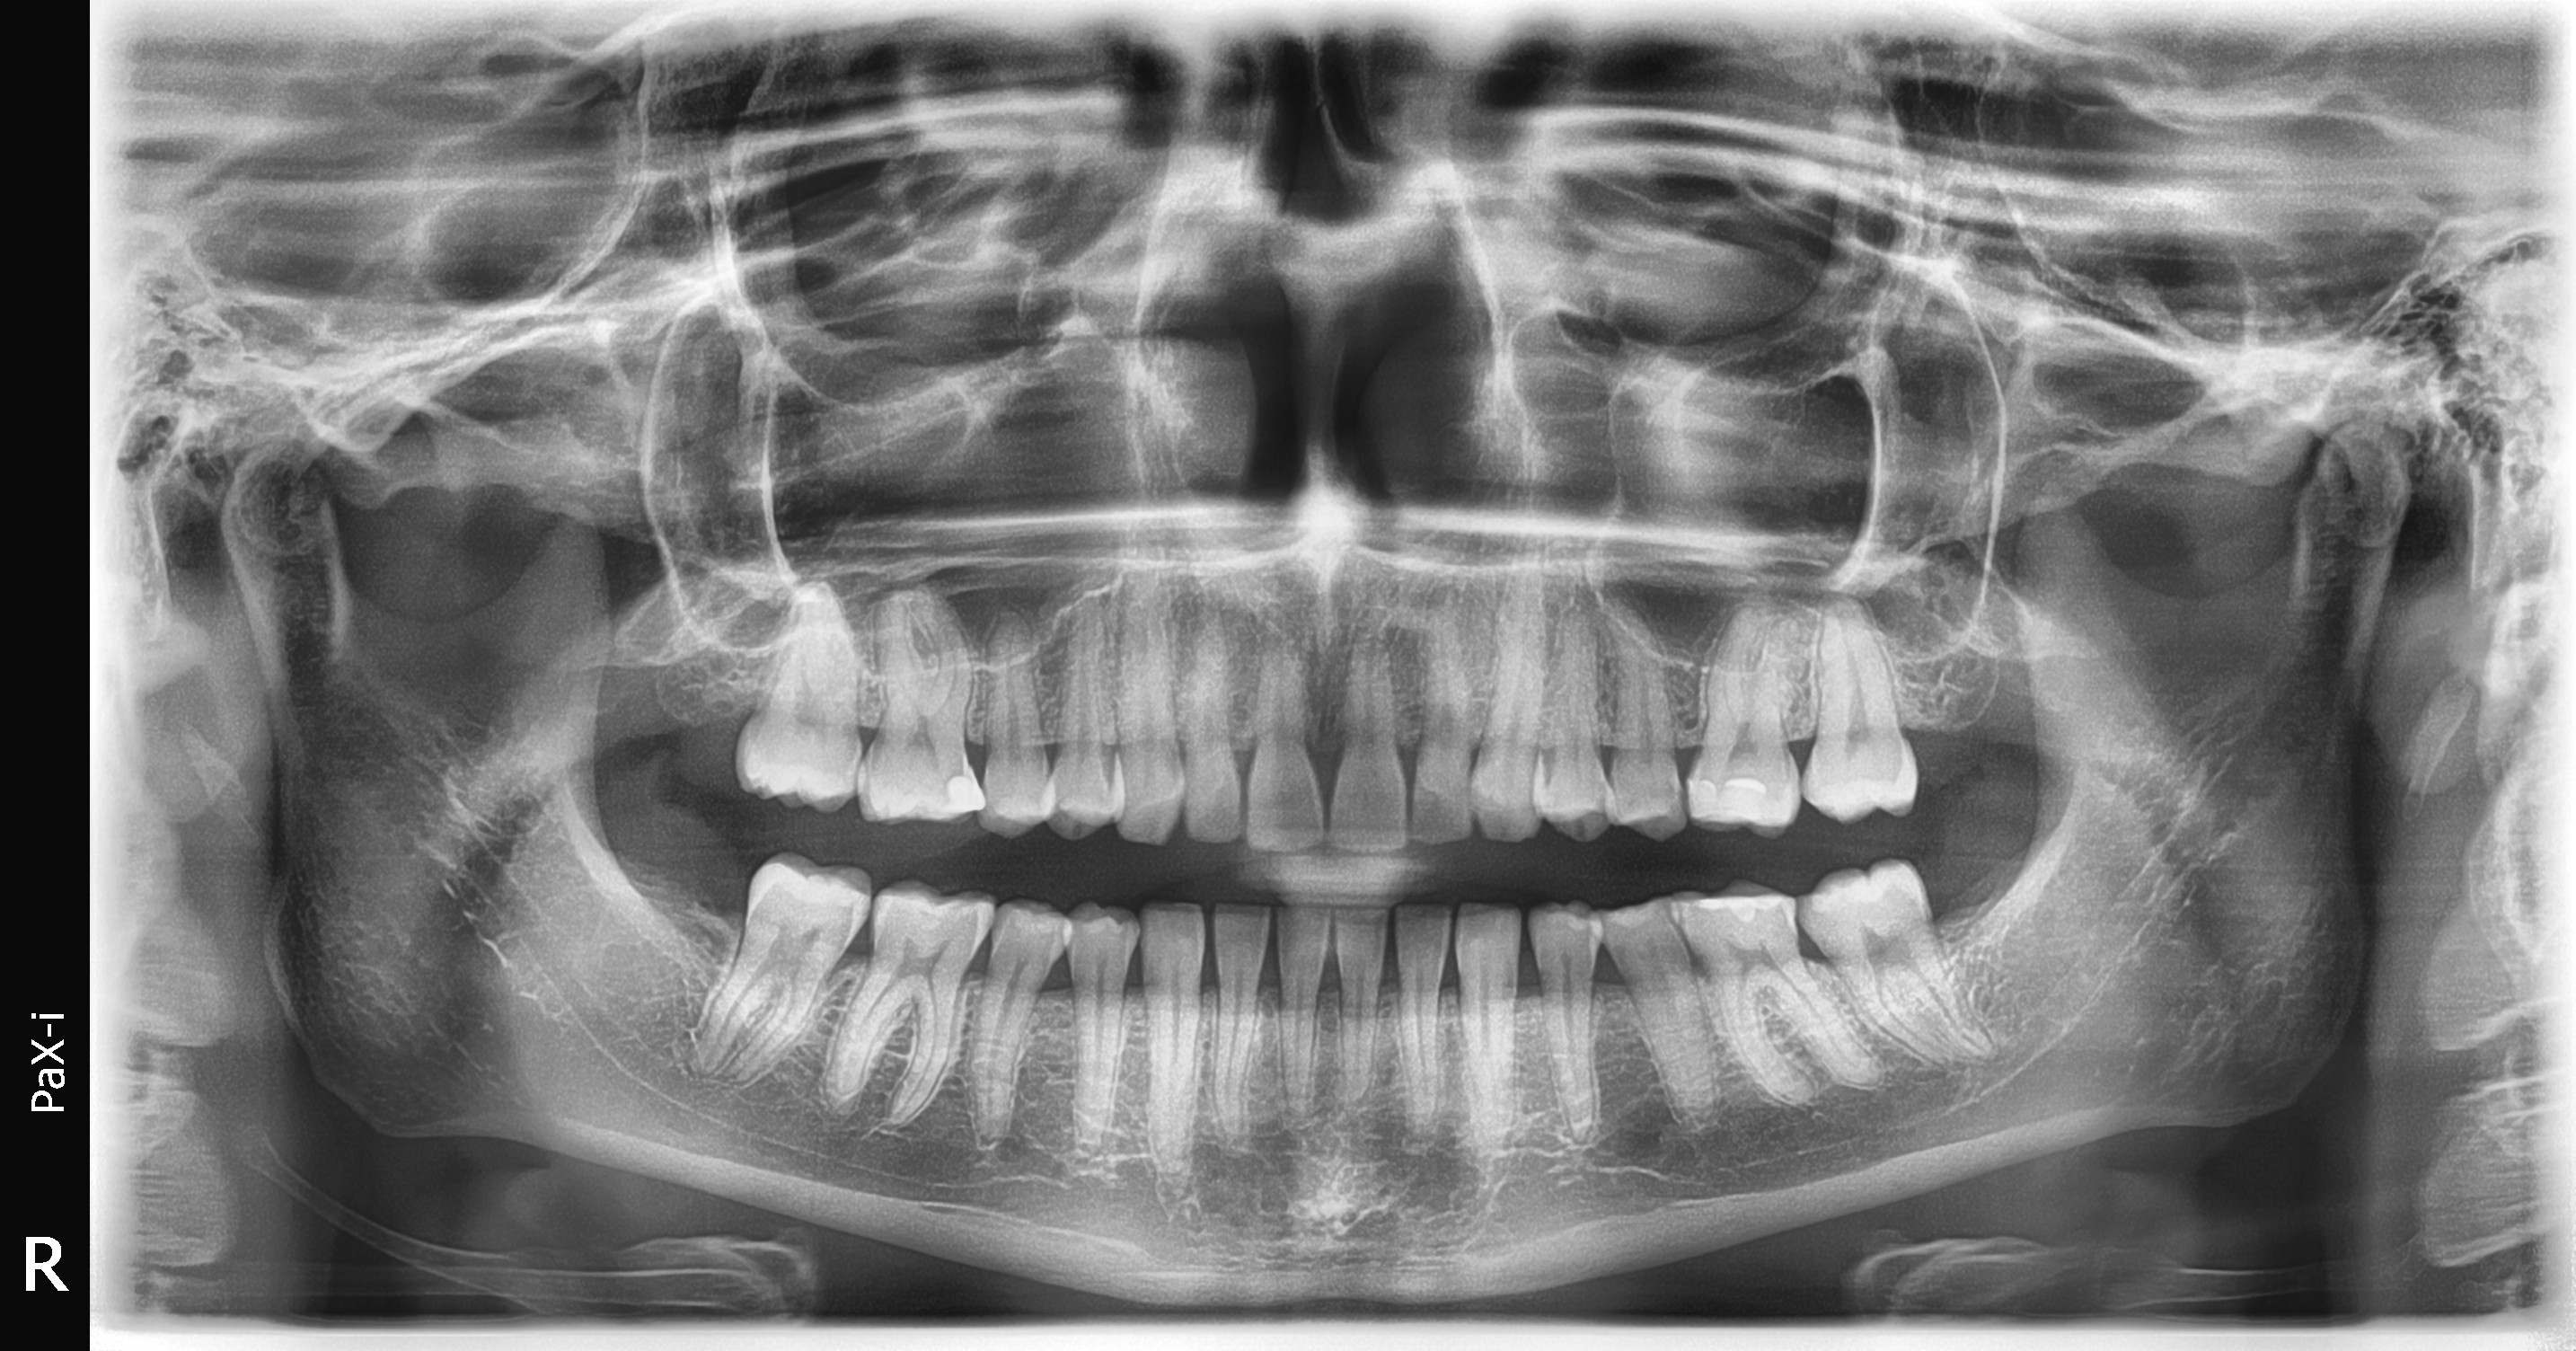CAR: (821, 365, 2501, 1191), (429, 443, 1395, 1351)
OBT: (818, 419, 2576, 1351), (808, 354, 2574, 1184), (448, 354, 1435, 1186)
